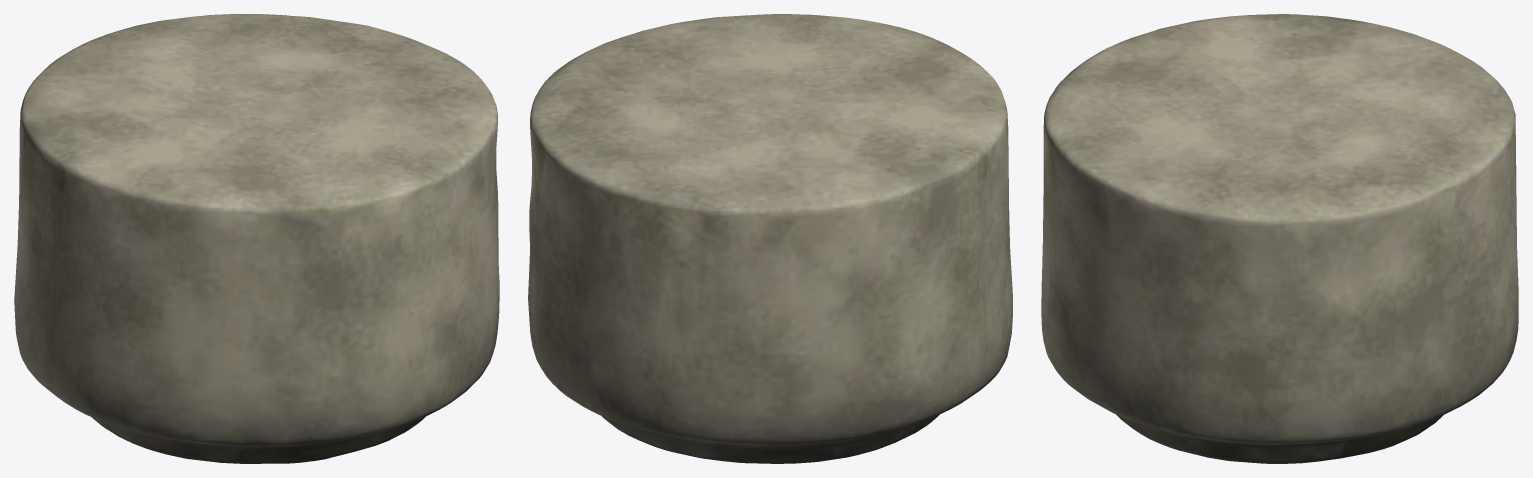
Rendered from rustic-limestone-balcony-v001.glb.
3 views of the same model, side by side, from view 1: azimuth 30°, elevation 25°; view 2: azimuth 150°, elevation 25°; view 3: azimuth 270°, elevation 25° (orthographic).
Parts seen in each view (by area): view 1: rustic-limestone-balcony; view 2: rustic-limestone-balcony; view 3: rustic-limestone-balcony.
Boxes of the visible parts, box(x1,y1,x2,y2) form: rustic-limestone-balcony: box(14, 14, 499, 463); rustic-limestone-balcony: box(528, 14, 1012, 463); rustic-limestone-balcony: box(1041, 14, 1518, 463).
Size of the model in its own units: 1.97 by 1.29 by 1.97.
Materials: 1 (1 with a texture image).
